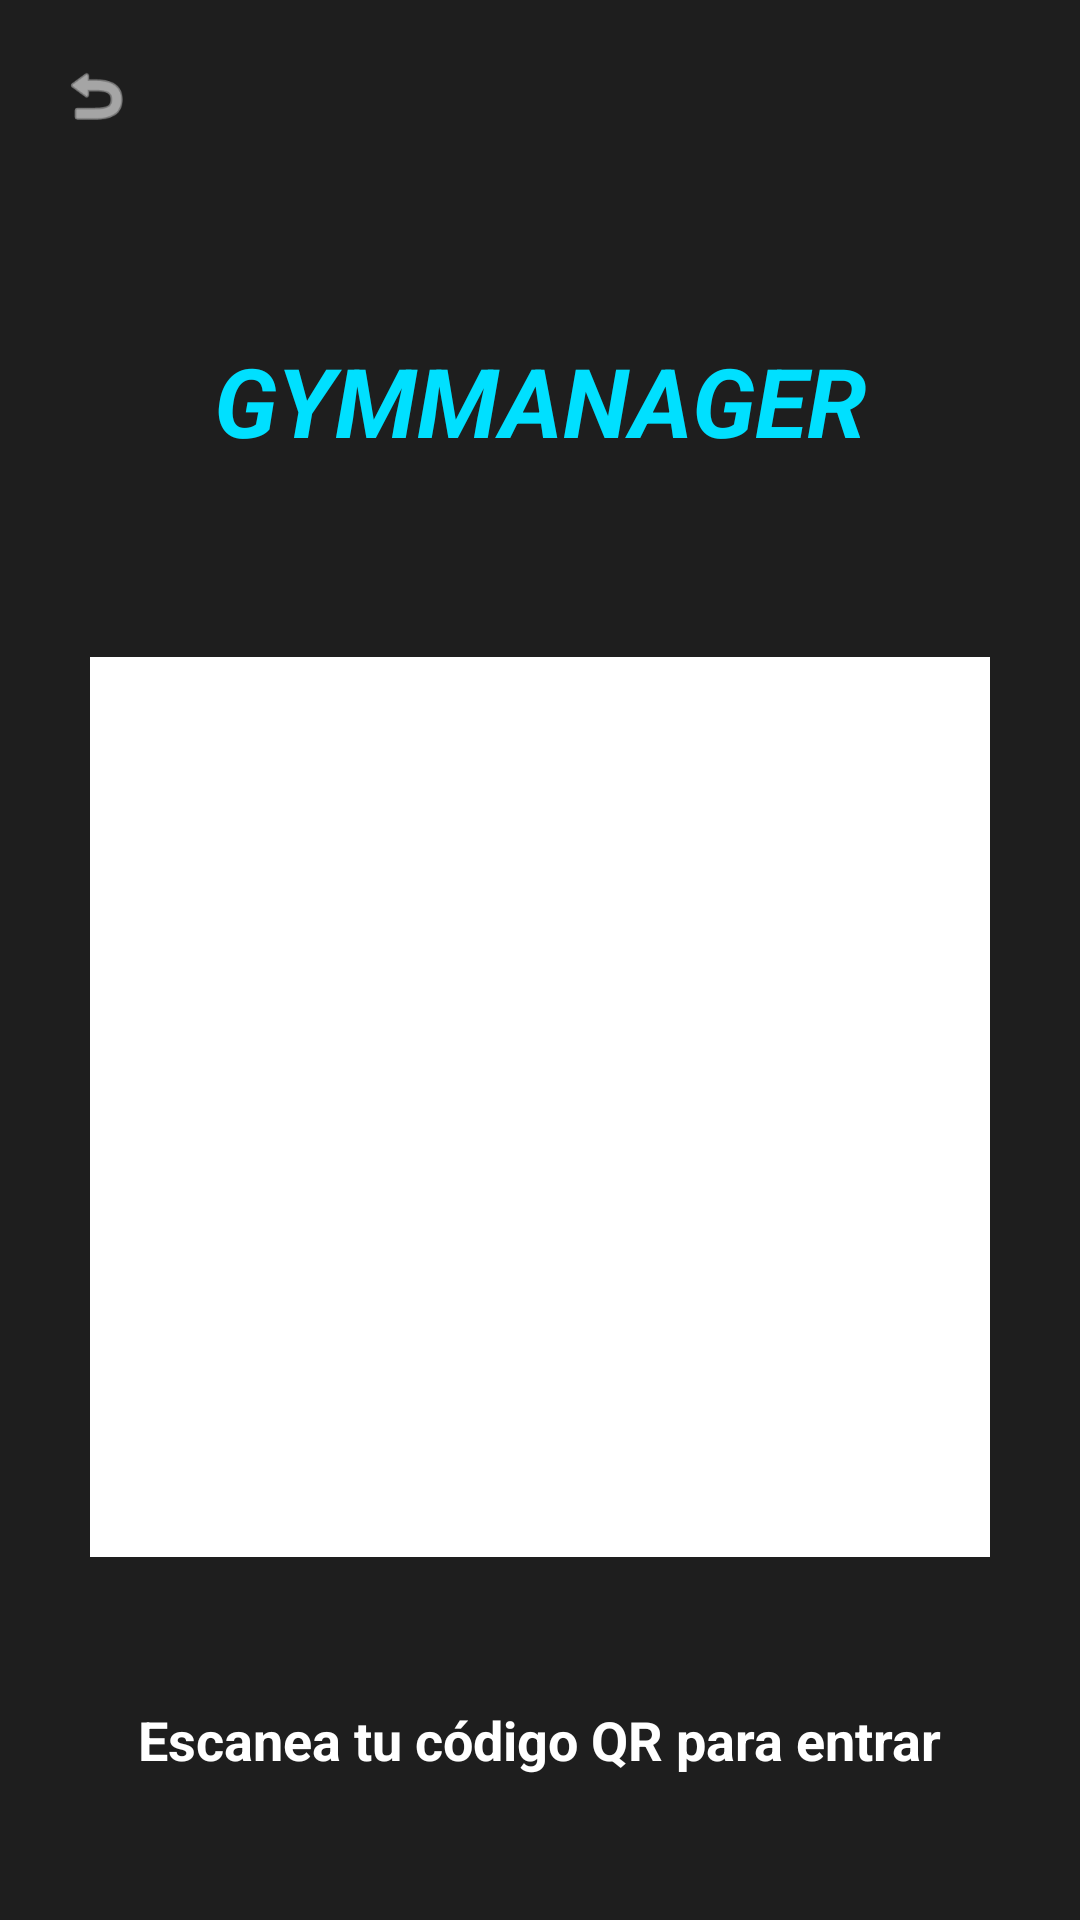

Point at icon controls on the screen. Image size 1080*1920, points as point (x, y).
Atrás: point (97, 96)
